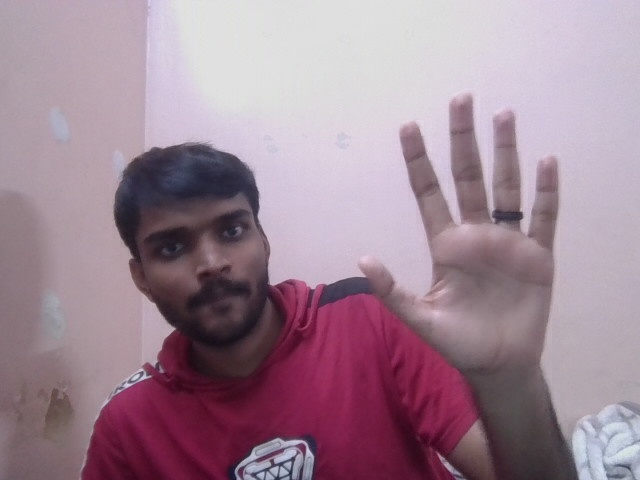Hello: (362, 92, 566, 372)
